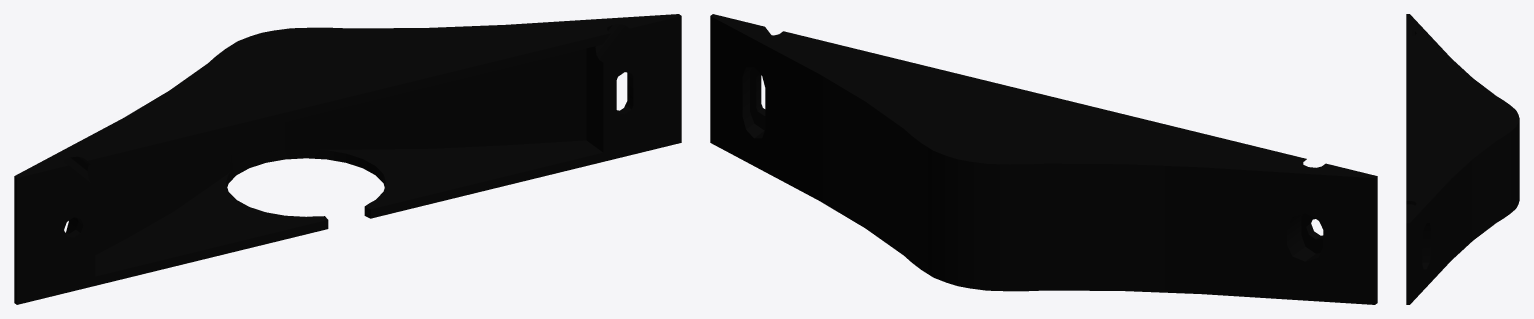
File: blueboat_ping_singlebeam_mount.visual.glb
The picture shows the model from 3 angles, left to right: view 1: azimuth 30°, elevation 25°; view 2: azimuth 150°, elevation 25°; view 3: azimuth 270°, elevation 25°; orthographic projection. The views are drawn at different scales.
Visible parts, largest first — view 1: blueboat_ping_singlebeam_mount.visual.001; view 2: blueboat_ping_singlebeam_mount.visual.001; view 3: blueboat_ping_singlebeam_mount.visual.001.
Part boxes in pixels (<box>): blueboat_ping_singlebeam_mount.visual.001: <box>14,14,681,304</box>; blueboat_ping_singlebeam_mount.visual.001: <box>710,14,1377,304</box>; blueboat_ping_singlebeam_mount.visual.001: <box>1406,14,1519,304</box>.
Size of the model in its own units: 0.2413 by 0.044 by 0.0552.
Materials: 1 (1 with a texture image).
